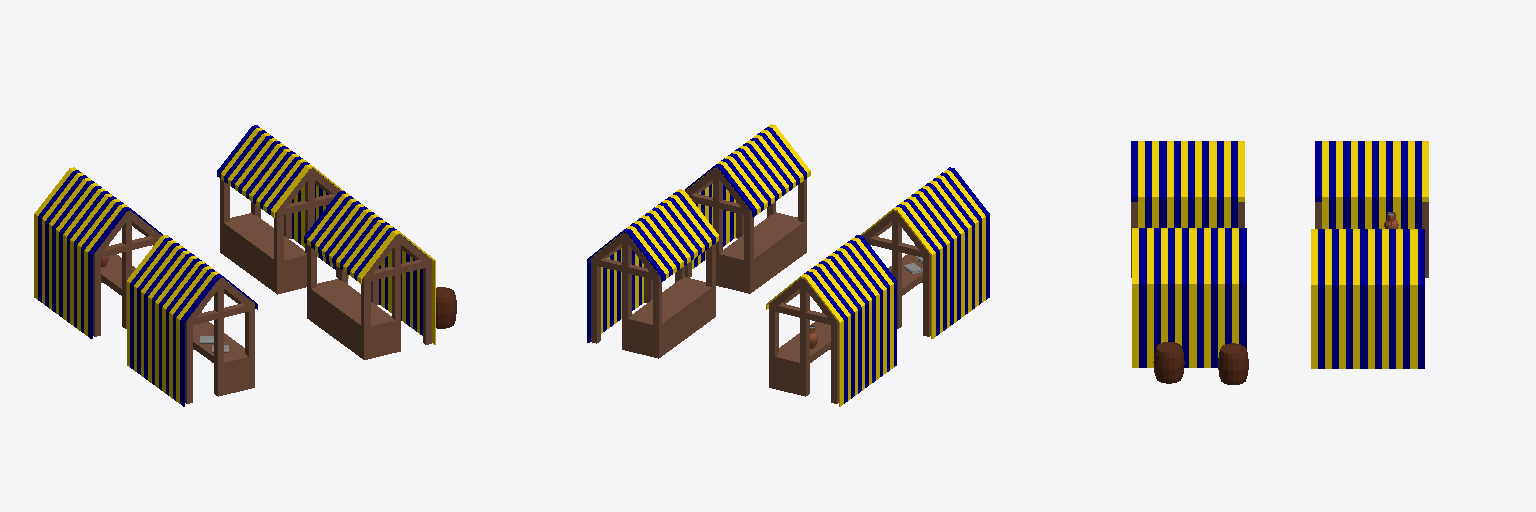
File: market_blue_yellow.obj
3 renders of one model, left to right at view 1: azimuth 30°, elevation 25°; view 2: azimuth 150°, elevation 25°; view 3: azimuth 270°, elevation 25°, orthographic.
Parts seen in each view (by area): view 1: Cube.060_Cube.235, Cube.156_Cube.225, Cube.052_Cube.004, Cube.056_Cube.178, Cube.147_Cube.153, Cube.001_Cube.064, Barrel1.001; view 2: Cube.156_Cube.225, Cube.060_Cube.235, Cube.056_Cube.178, Cube.052_Cube.004, Cube.001_Cube.064, Cube.147_Cube.153, Cube.025_Cube.001, Cube.057_Cube.179; view 3: Cube.156_Cube.225, Cube.060_Cube.235, Cube.001_Cube.064, Cube.147_Cube.153, Barrel1.001, Barrel1.
Boxes of the visible parts, box(x1,y1,x2,y2) form: Cube.060_Cube.235: box(127, 235, 257, 406); Cube.156_Cube.225: box(34, 167, 162, 338); Cube.052_Cube.004: box(309, 234, 431, 359); Cube.056_Cube.178: box(222, 168, 340, 294); Cube.147_Cube.153: box(379, 250, 435, 344); Cube.001_Cube.064: box(292, 184, 348, 278); Barrel1.001: box(436, 287, 456, 328); Cube.156_Cube.225: box(766, 235, 896, 406); Cube.060_Cube.235: box(861, 167, 989, 338); Cube.056_Cube.178: box(591, 232, 715, 356); Cube.052_Cube.004: box(685, 168, 806, 292); Cube.001_Cube.064: box(587, 248, 643, 342); Cube.147_Cube.153: box(692, 184, 735, 268); Cube.025_Cube.001: box(744, 210, 753, 293); Cube.057_Cube.179: box(653, 275, 661, 358); Cube.156_Cube.225: box(1315, 141, 1428, 277); Cube.060_Cube.235: box(1131, 141, 1244, 277); Cube.001_Cube.064: box(1311, 285, 1424, 368); Cube.147_Cube.153: box(1132, 284, 1246, 367); Barrel1.001: box(1153, 342, 1184, 383); Barrel1: box(1218, 343, 1248, 384).
Bounding box in the file's own units: 9.51 × 3.73 × 8.36.